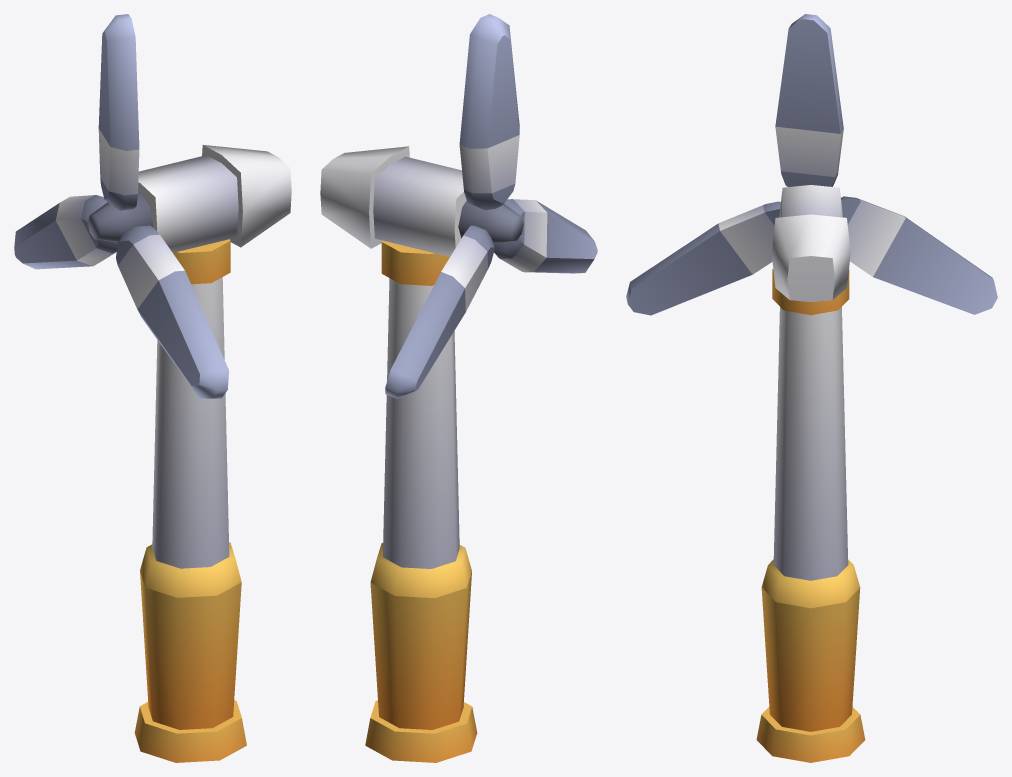
The model's file is windmill.glb.
3 views of the same model, side by side, from view 1: azimuth 30°, elevation 25°; view 2: azimuth 150°, elevation 25°; view 3: azimuth 270°, elevation 25° (orthographic). The views are drawn at different scales.
Visible parts, largest first — view 1: windmill, blades; view 2: windmill, blades; view 3: windmill, blades.
Part boxes in pixels (x1,y1,x2,y2): windmill: [88, 145, 291, 762]; blades: [14, 14, 228, 398]; windmill: [320, 146, 523, 762]; blades: [385, 14, 597, 398]; windmill: [756, 185, 865, 762]; blades: [626, 14, 997, 315].
Size of the model in its own units: 0.6048 by 2.31 by 1.13.
Materials: 1 (1 with a texture image).
